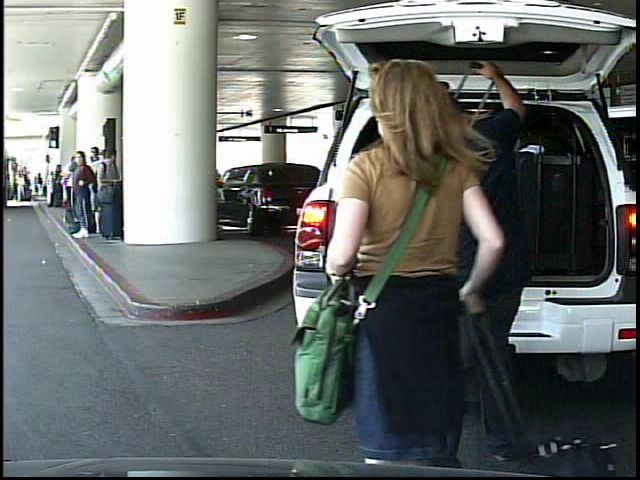person: (316, 44, 512, 475), (386, 65, 551, 456), (16, 174, 27, 205), (35, 172, 46, 199)
